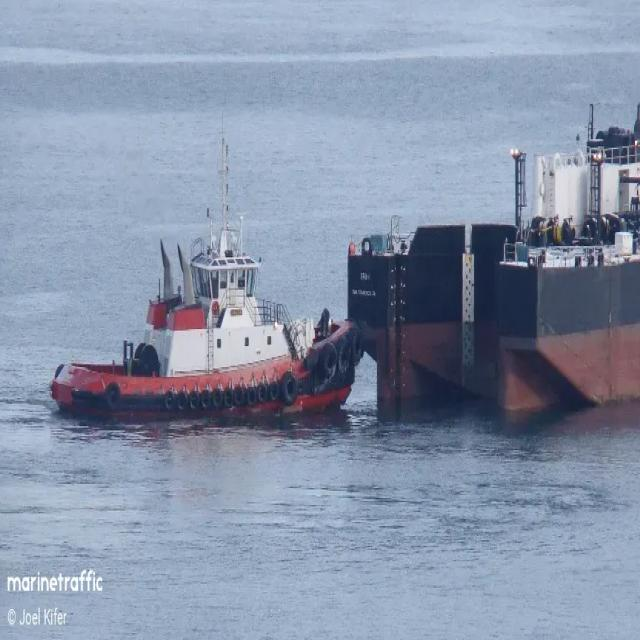Tug: (50, 145, 361, 416)
